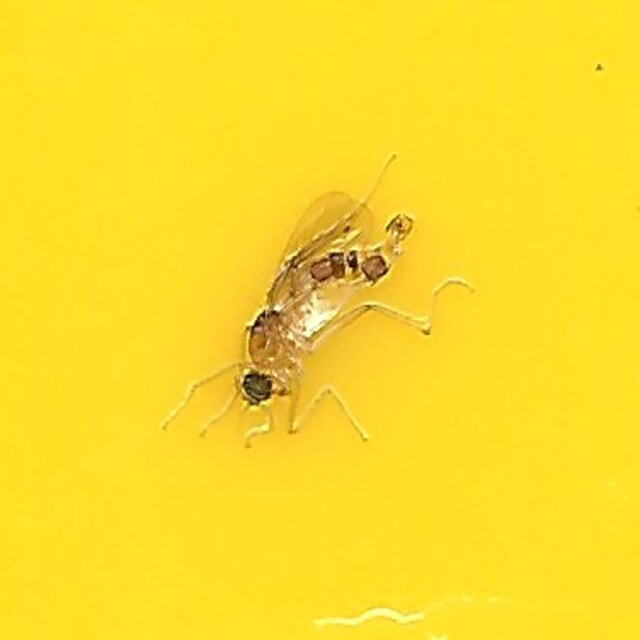Brachycera: (170, 188, 470, 452)
